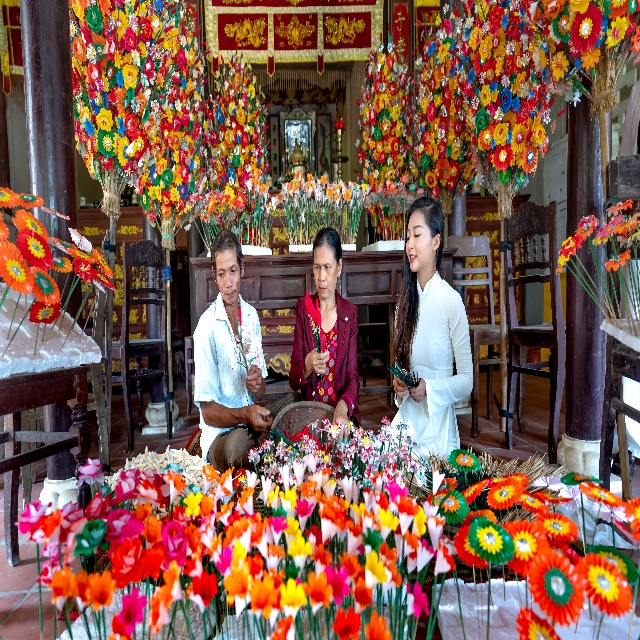Sin_guantes: (247, 403, 273, 431), (332, 404, 350, 440), (306, 350, 330, 376), (245, 364, 261, 394), (407, 377, 426, 402), (394, 372, 409, 397)
